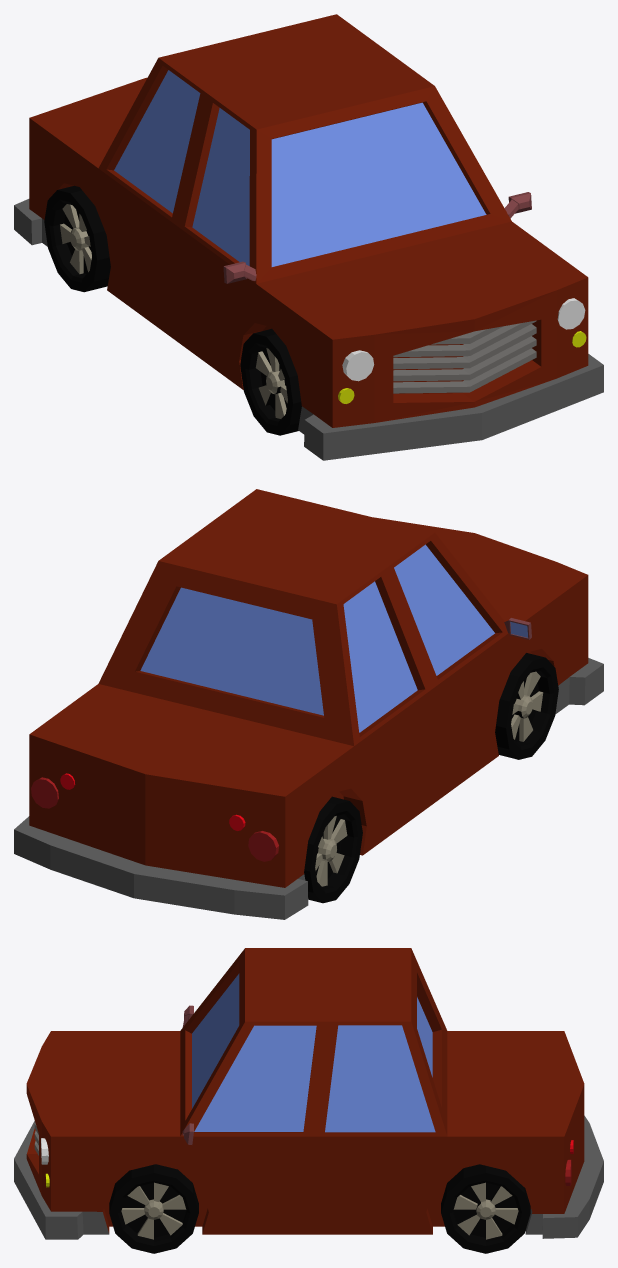
Rendered from RedCar.fbx.
3 views of the same model, one above another, from view 1: azimuth 30°, elevation 25°; view 2: azimuth 150°, elevation 25°; view 3: azimuth 270°, elevation 25° (orthographic). The views are drawn at different scales.
Visible parts, largest first — view 1: Cube, Cylinder.006, Cube.001, Cylinder, Plane; view 2: Cube, Cylinder.006, Cylinder.004; view 3: Cube, Cylinder.006.
Part boxes in pixels (x1,y1,x2,y2): Cube: (14, 14, 603, 460); Cylinder.006: (44, 185, 301, 435); Cube.001: (393, 320, 536, 393); Cylinder: (342, 298, 585, 381); Plane: (223, 192, 531, 283); Cube: (14, 489, 603, 919); Cylinder.006: (304, 653, 558, 903); Cylinder.004: (31, 777, 278, 861); Cube: (14, 948, 603, 1239); Cylinder.006: (109, 1164, 530, 1253).
Bounding box in the file's own units: 369 × 292 × 729.
